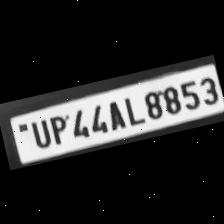3: (194, 70, 220, 106)
4: (64, 104, 92, 140), (82, 100, 110, 136)
5: (174, 76, 202, 112)
8: (137, 85, 165, 121), (157, 80, 183, 115)
A: (101, 95, 128, 132)
L: (118, 89, 145, 126)
P: (43, 110, 70, 146)
U: (25, 114, 52, 148)
